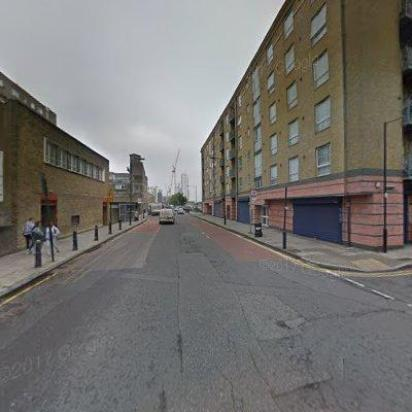moving-car: (177, 208, 185, 216)
moving-heavy-truck: (146, 202, 162, 216)
moving-light-truck: (158, 208, 176, 224)
